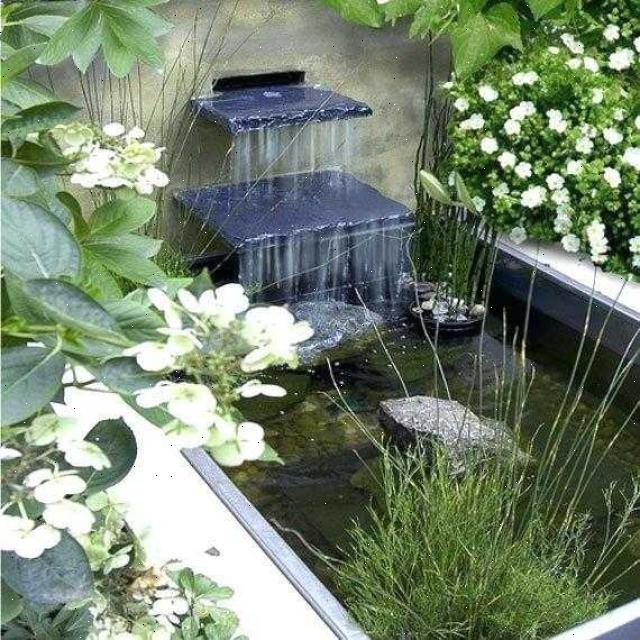tortoise: (458, 418, 546, 490)
